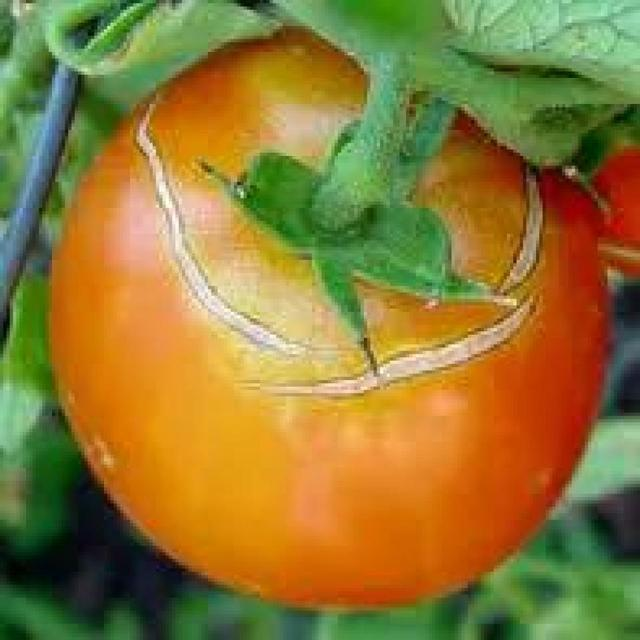Cracking Fruit: (66, 112, 335, 236)
